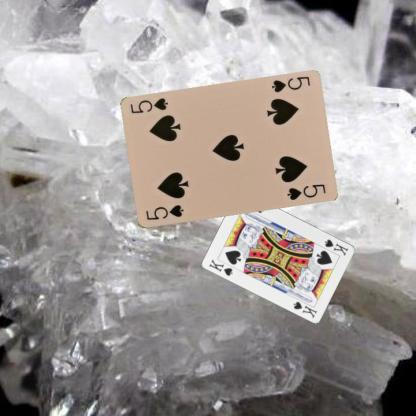5s: (269, 74, 311, 94), (143, 202, 184, 222)
Ks: (322, 236, 350, 257), (206, 256, 235, 276)
